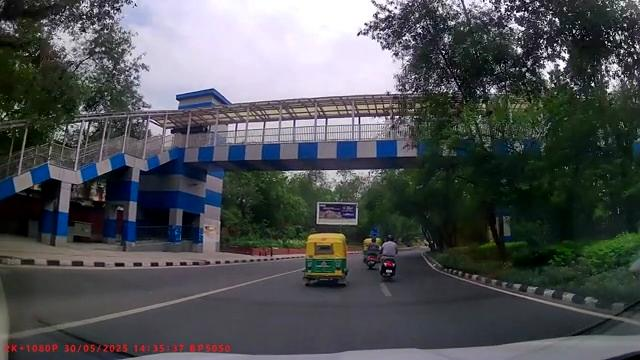motorcycle_with_helmet: (378, 234, 399, 282)
